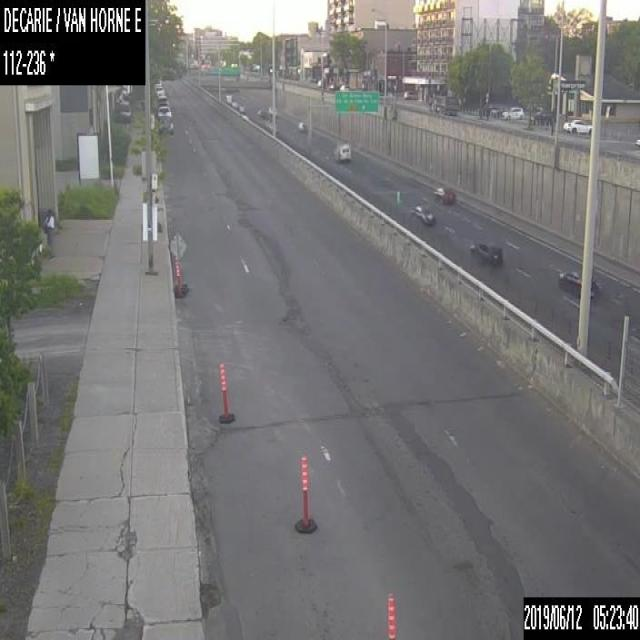construction: (295, 455, 317, 532), (217, 360, 234, 423), (384, 593, 396, 639), (174, 256, 184, 297)
pedestrian: (44, 208, 56, 262)
vehicle: (558, 268, 596, 297), (467, 242, 502, 264), (429, 93, 458, 116), (414, 201, 436, 224), (562, 118, 591, 134), (530, 106, 554, 124), (434, 185, 454, 203), (157, 116, 174, 136), (114, 100, 130, 121), (500, 105, 523, 119), (478, 103, 498, 118), (334, 143, 350, 160), (157, 105, 170, 118), (403, 89, 417, 99), (157, 94, 167, 107), (155, 84, 164, 95), (339, 83, 348, 91), (298, 122, 306, 130), (635, 136, 639, 147)
